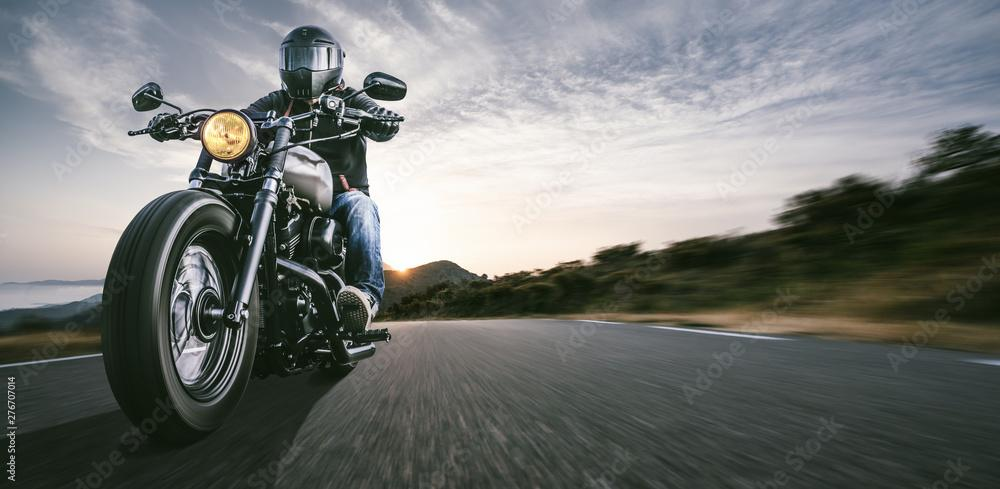helmet: (278, 24, 347, 100)
